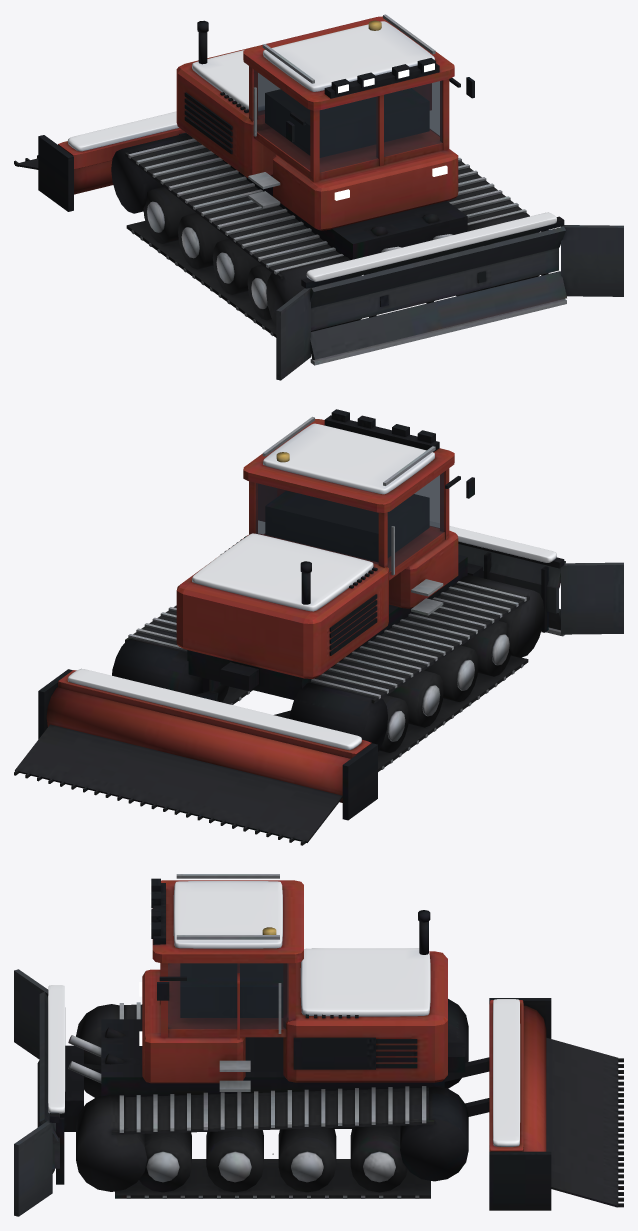
Rendered from snowcat.glb.
3 views of the same model, one above another, from view 1: azimuth 30°, elevation 25°; view 2: azimuth 150°, elevation 25°; view 3: azimuth 270°, elevation 25° (orthographic). The views are drawn at different scales.
Visible parts, largest first — view 1: snowcat, snowcat_snow, snowcat_glass, snowcat_lamp; view 2: snowcat, snowcat_snow, snowcat_glass; view 3: snowcat, snowcat_snow, snowcat_glass.
Boxes of the visible parts, bbox=[...] form: snowcat: bbox=[14, 14, 623, 380]; snowcat_snow: bbox=[67, 21, 556, 281]; snowcat_glass: bbox=[254, 70, 442, 172]; snowcat_lamp: bbox=[334, 63, 447, 200]; snowcat: bbox=[14, 409, 623, 845]; snowcat_snow: bbox=[67, 423, 556, 750]; snowcat_glass: bbox=[255, 472, 443, 571]; snowcat: bbox=[14, 874, 623, 1216]; snowcat_snow: bbox=[48, 881, 520, 1146]; snowcat_glass: bbox=[168, 963, 288, 1029].
Bounding box in the file's own units: 6.06 × 4.02 × 8.88.
4 materials, 1 textured.
